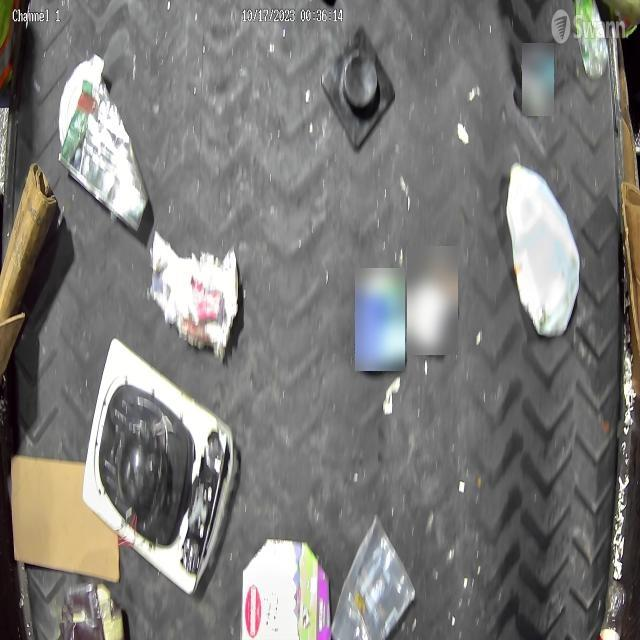milk_jug: (506, 161, 580, 338)
plastic_bottle: (574, 0, 610, 80)
